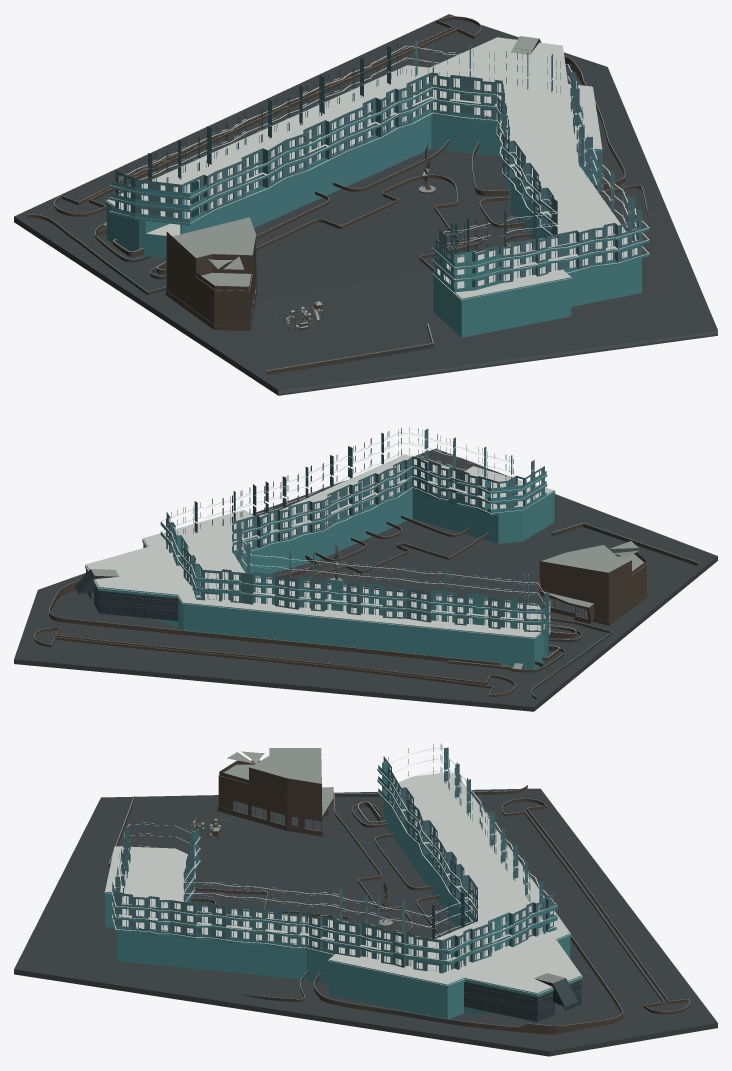
3 renders of one model, top to bottom at view 1: azimuth 30°, elevation 25°; view 2: azimuth 150°, elevation 25°; view 3: azimuth 270°, elevation 25°, orthographic. The views are drawn at different scales.
Parts seen in each view (by area): view 1: polySurface21297; view 2: polySurface21297; view 3: polySurface21297.
Boxes of the visible parts, bbox=[...] form: polySurface21297: bbox=[14, 14, 717, 395]; polySurface21297: bbox=[14, 427, 717, 711]; polySurface21297: bbox=[14, 743, 717, 1056].
Bounding box in the file's own units: 906 × 118 × 1025.
